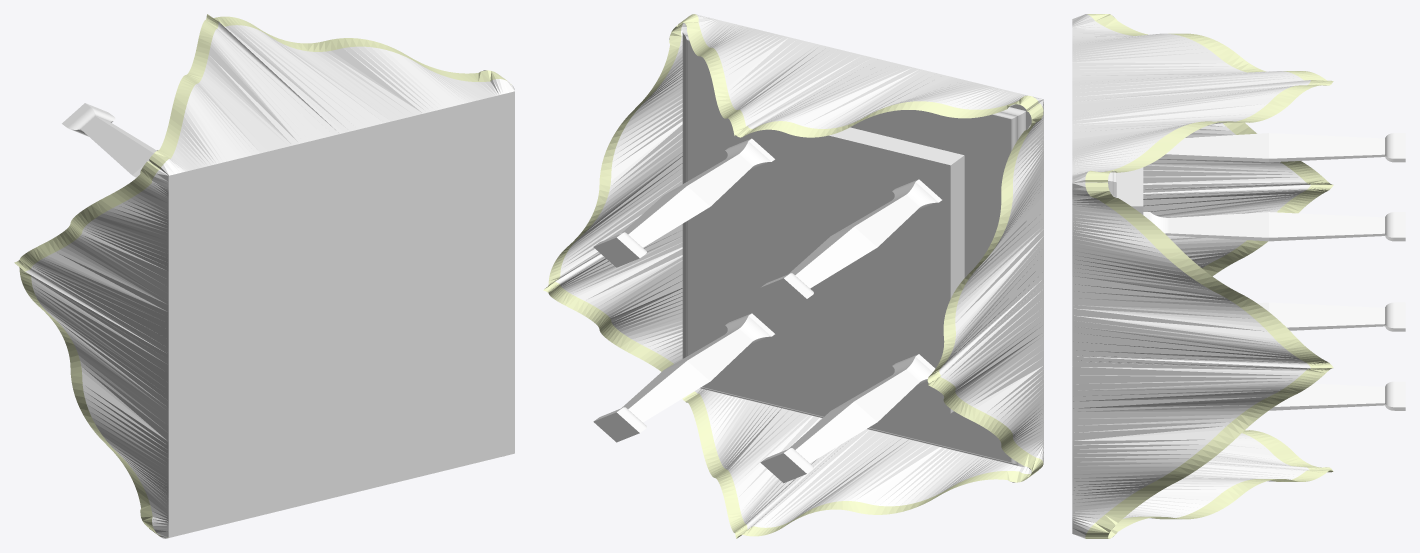
3 views of the same model, side by side, from view 1: azimuth 30°, elevation 25°; view 2: azimuth 150°, elevation 25°; view 3: azimuth 270°, elevation 25° (orthographic). The views are drawn at different scales.
Visible parts, largest first — view 1: cornered tablecloth; view 2: cornered tablecloth; view 3: cornered tablecloth.
Boxes of the visible parts, bbox=[...] form: cornered tablecloth: bbox=[14, 14, 514, 538]; cornered tablecloth: bbox=[543, 14, 1043, 538]; cornered tablecloth: bbox=[1072, 14, 1405, 538].
Size of the model in its own units: 44.31 by 44.31 by 34.06.
